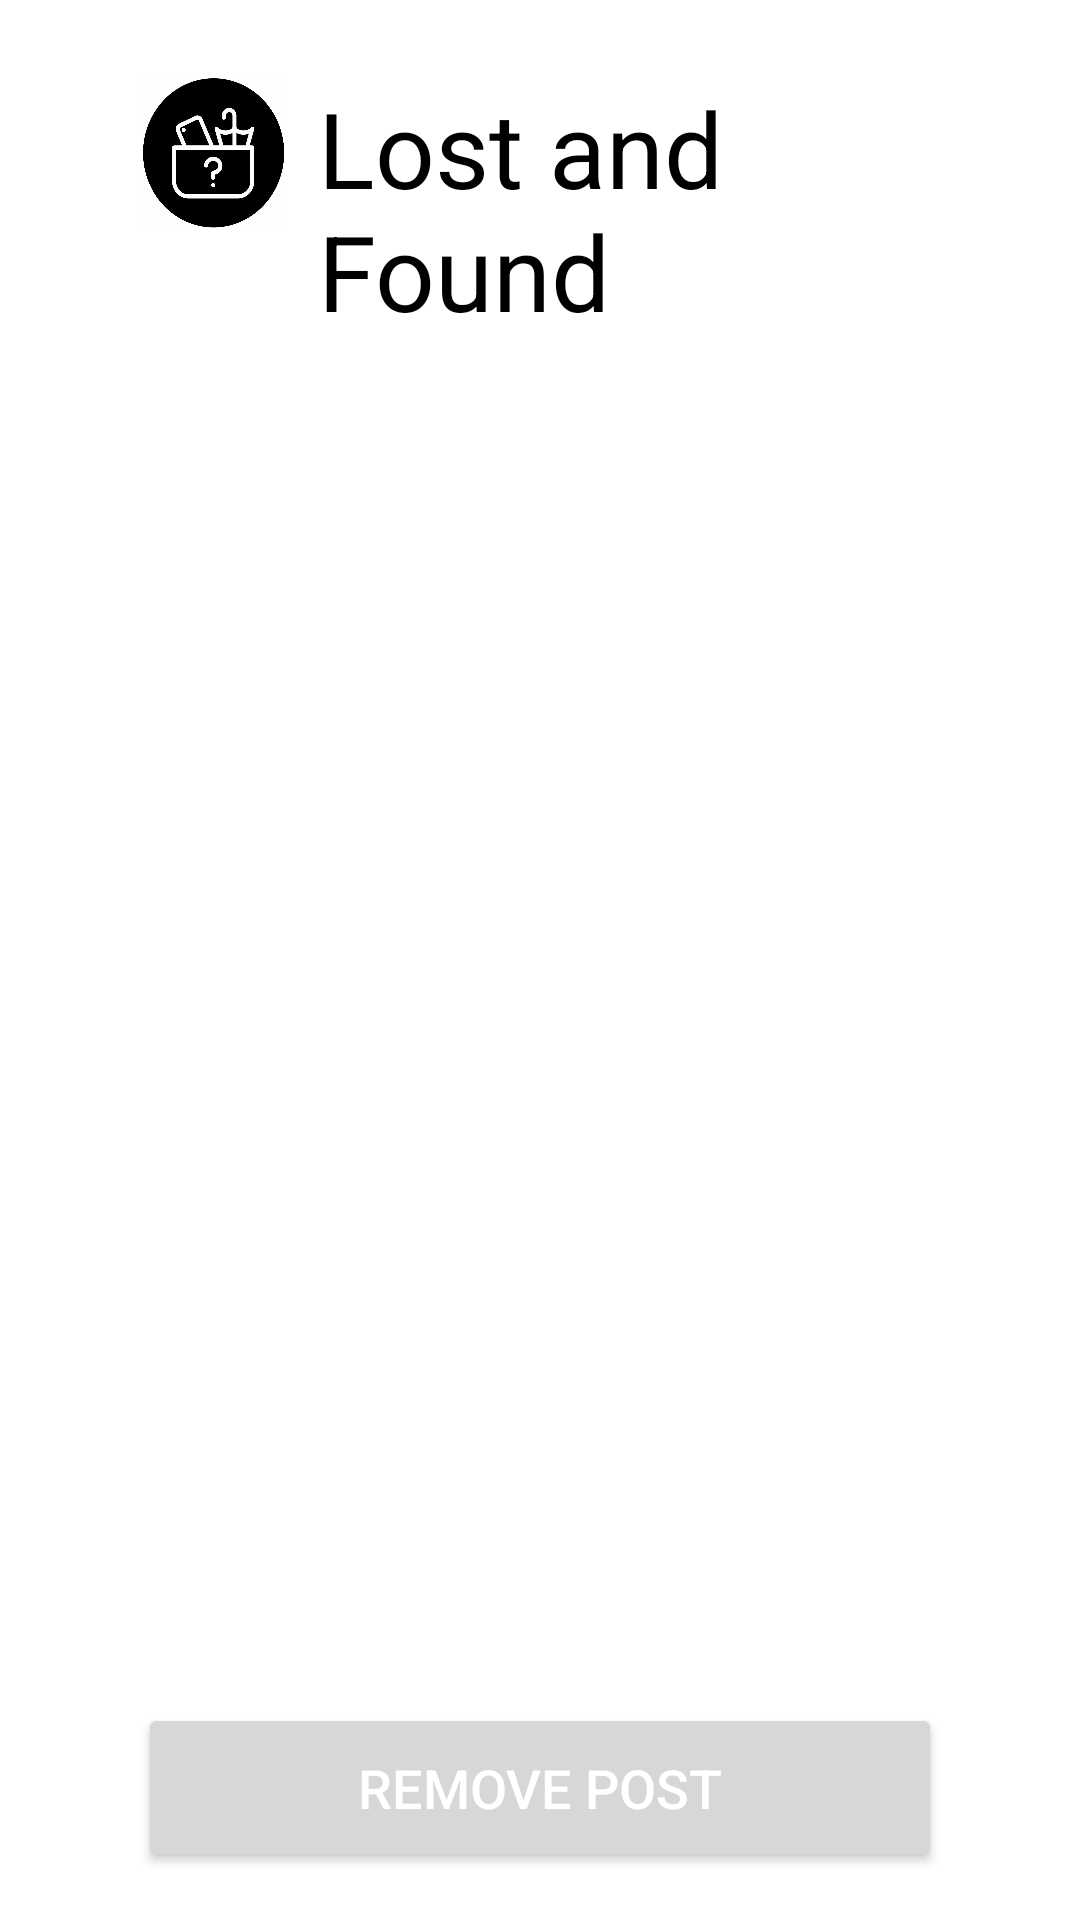

Named icons in this screenshot (1080 x 1920) and their centers, (x,y):
My App Icon: (213,153)
